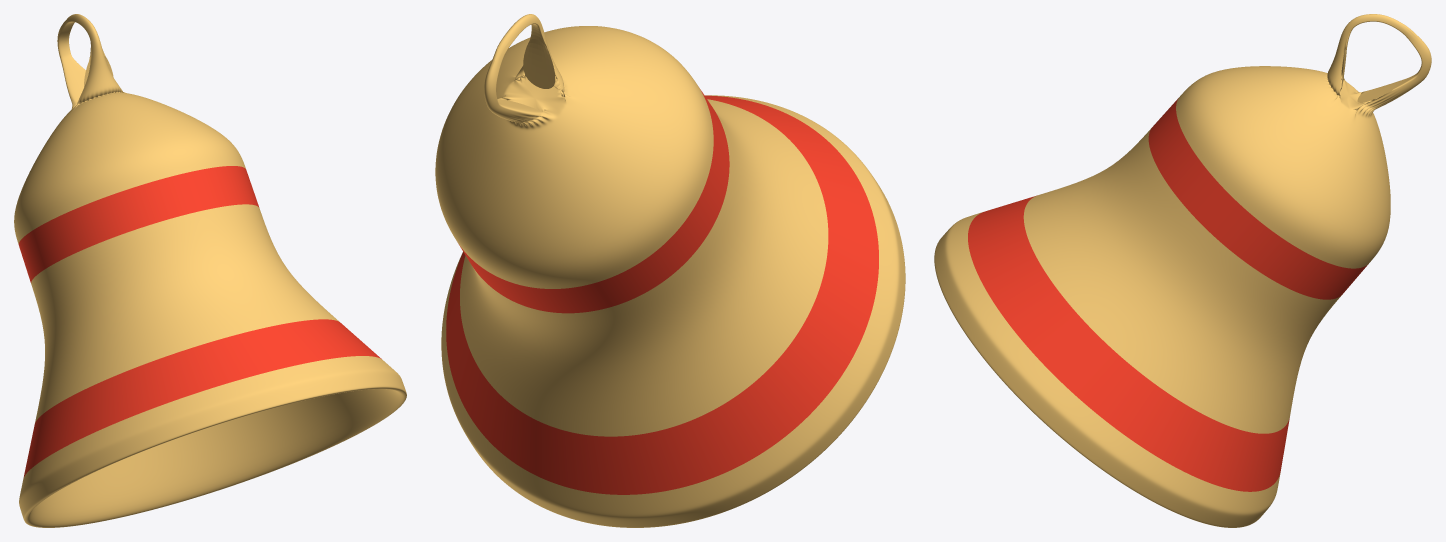
File: cloche2.glb
The picture shows the model from 3 angles, left to right: view 1: azimuth 30°, elevation 25°; view 2: azimuth 150°, elevation 25°; view 3: azimuth 270°, elevation 25°; orthographic projection. The views are drawn at different scales.
Visible parts, largest first — view 1: Cylinder.003; view 2: Cylinder.003; view 3: Cylinder.003.
Boxes of the visible parts, left/top/right/bottom form: Cylinder.003: left=14, top=14, right=406, bottom=527; Cylinder.003: left=435, top=14, right=905, bottom=527; Cylinder.003: left=934, top=14, right=1431, bottom=527.
Size of the model in its own units: 2.53 by 3.18 by 2.97.
